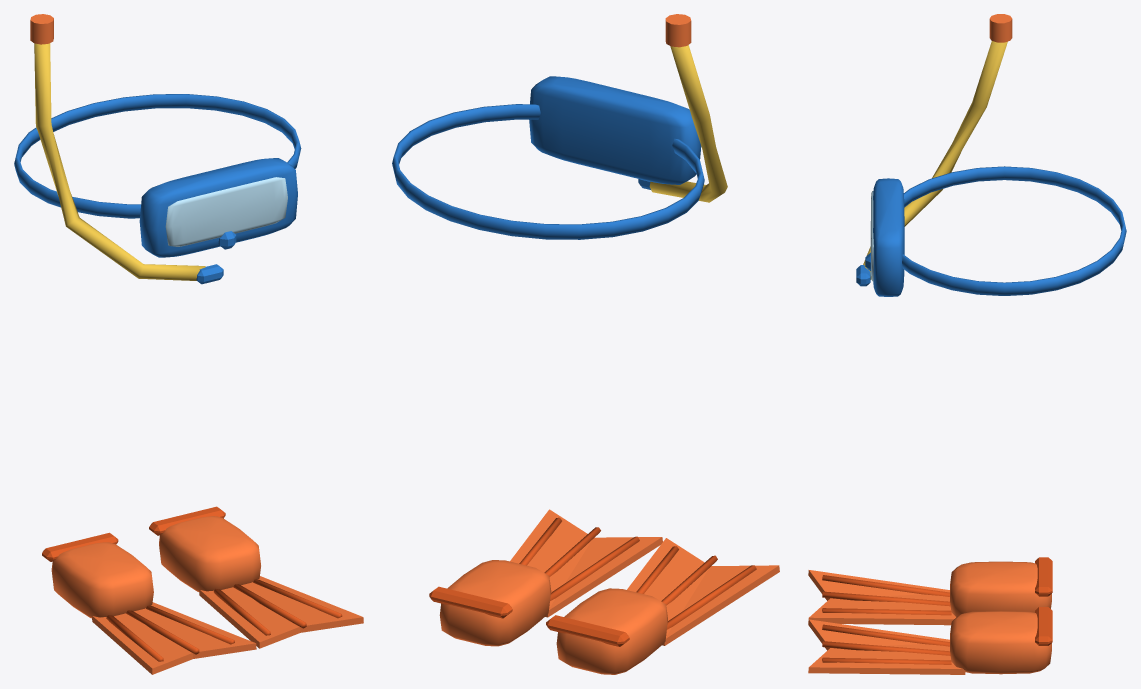
The model's file is mergulho.glb.
The picture shows the model from 3 angles, left to right: view 1: azimuth 30°, elevation 25°; view 2: azimuth 150°, elevation 25°; view 3: azimuth 270°, elevation 25°; orthographic projection. The views are drawn at different scales.
Visible parts, largest first — view 1: mascara, pe-de-pato-dir, pe-de-pato-esq; view 2: mascara, pe-de-pato-dir, pe-de-pato-esq; view 3: mascara, pe-de-pato-esq, pe-de-pato-dir.
Part boxes in pixels (left/top/right/bottom): mascara: left=14, top=14, right=301, bottom=284; pe-de-pato-dir: left=42, top=532, right=256, bottom=674; pe-de-pato-esq: left=149, top=506, right=363, bottom=648; mascara: left=392, top=14, right=727, bottom=239; pe-de-pato-dir: left=546, top=538, right=779, bottom=674; pe-de-pato-esq: left=429, top=509, right=662, bottom=646; mascara: left=856, top=14, right=1126, bottom=296; pe-de-pato-esq: left=808, top=607, right=1052, bottom=674; pe-de-pato-dir: left=808, top=557, right=1052, bottom=625.
Size of the model in its own units: 0.8055 by 1.75 by 0.8924.
